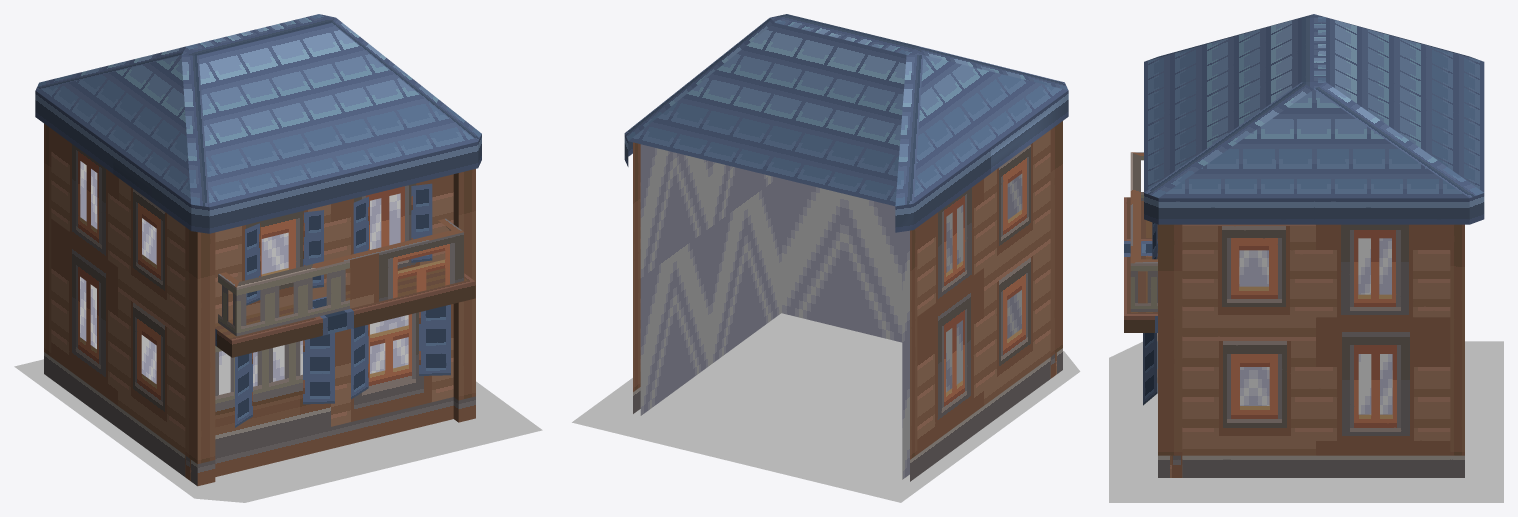
File: c12_house_02.dae
3 renders of one model, left to right at view 1: azimuth 30°, elevation 25°; view 2: azimuth 150°, elevation 25°; view 3: azimuth 270°, elevation 25°, orthographic.
Visible parts, largest first — view 1: c12_house_02; view 2: c12_house_02; view 3: c12_house_02.
Boxes of the visible parts, x1,y1,x2,y2 form: c12_house_02: (14,14,542,502); c12_house_02: (572,14,1080,502); c12_house_02: (1109,14,1503,502).
Bounding box in the file's own units: 78.45 × 82.57 × 81.
